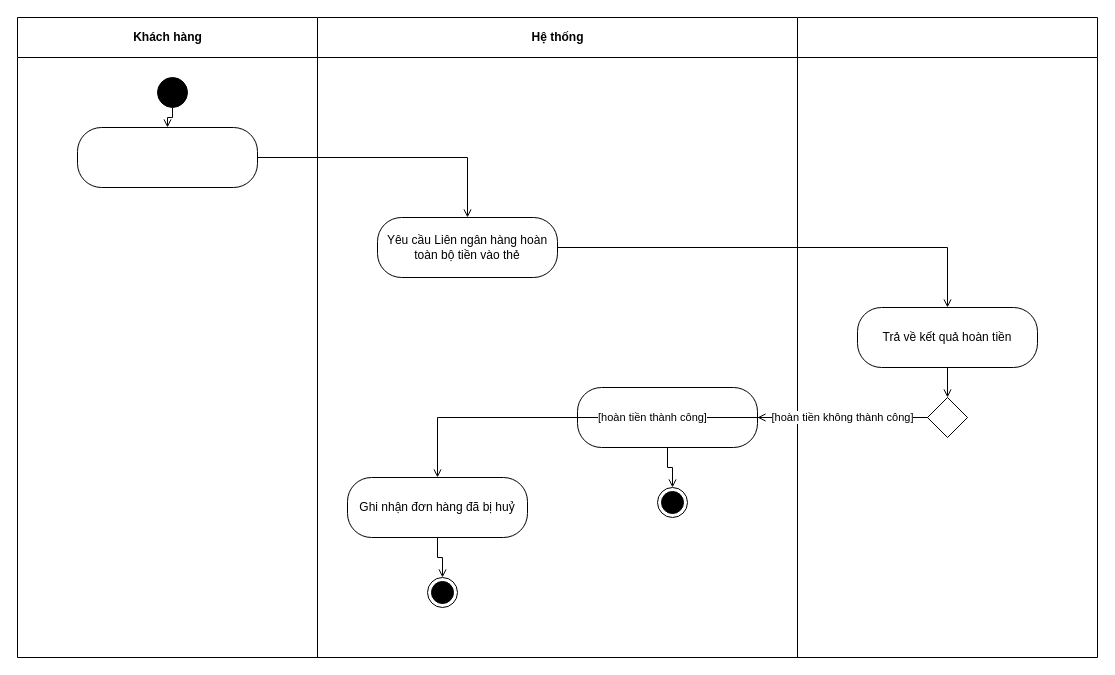
This 1115x675 diagram has some shape labels left out. Each missing label, with the box of its shape:
Giữ nguyên trạng thái đơn hàng: (576, 386, 758, 448)
Liên ngân hàng: (796, 16, 1098, 658)
Yêu cầu huỷ đơn hàng đã thanh toán: (76, 126, 258, 188)
